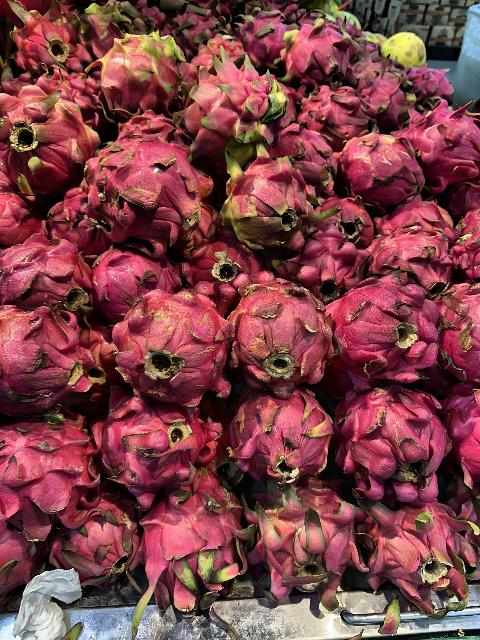buah-naga-belum-matang: (213, 139, 322, 245), (174, 46, 268, 154), (0, 88, 94, 192), (89, 26, 186, 116), (82, 2, 144, 58)
buah-naga-matang: (356, 484, 480, 608), (240, 485, 362, 607), (136, 492, 246, 622), (87, 133, 210, 249), (109, 288, 232, 402), (326, 276, 448, 390), (336, 383, 450, 497), (0, 300, 110, 418), (0, 414, 106, 534), (96, 394, 218, 496), (232, 280, 336, 392), (230, 390, 340, 490), (44, 500, 136, 582), (1, 224, 92, 304), (333, 126, 429, 198), (396, 102, 480, 182), (10, 1, 90, 74), (88, 238, 178, 298), (178, 230, 256, 298), (295, 85, 382, 145), (283, 233, 365, 294), (279, 22, 353, 88), (362, 221, 448, 277), (350, 66, 422, 130), (313, 196, 374, 242), (384, 195, 450, 232)
